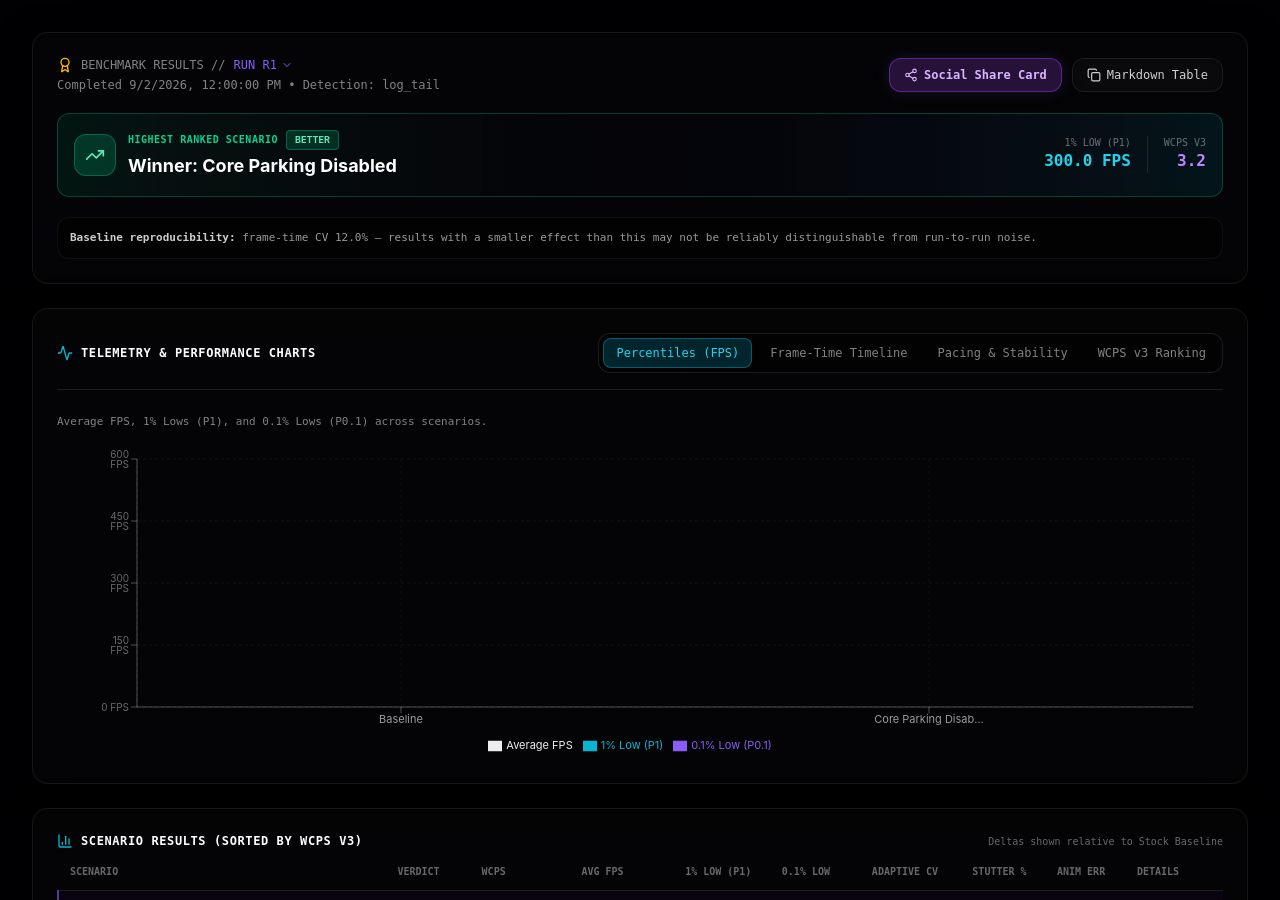
ResultsVisualizer › opens the run-switcher on click and lists every run in history
Expected: the text "Winner: Core Parking Disabled (3.2 WCPS)" is not shown
Click the button "RUN r1". click: (263, 65)
box: left=234, top=57, right=293, bottom=73
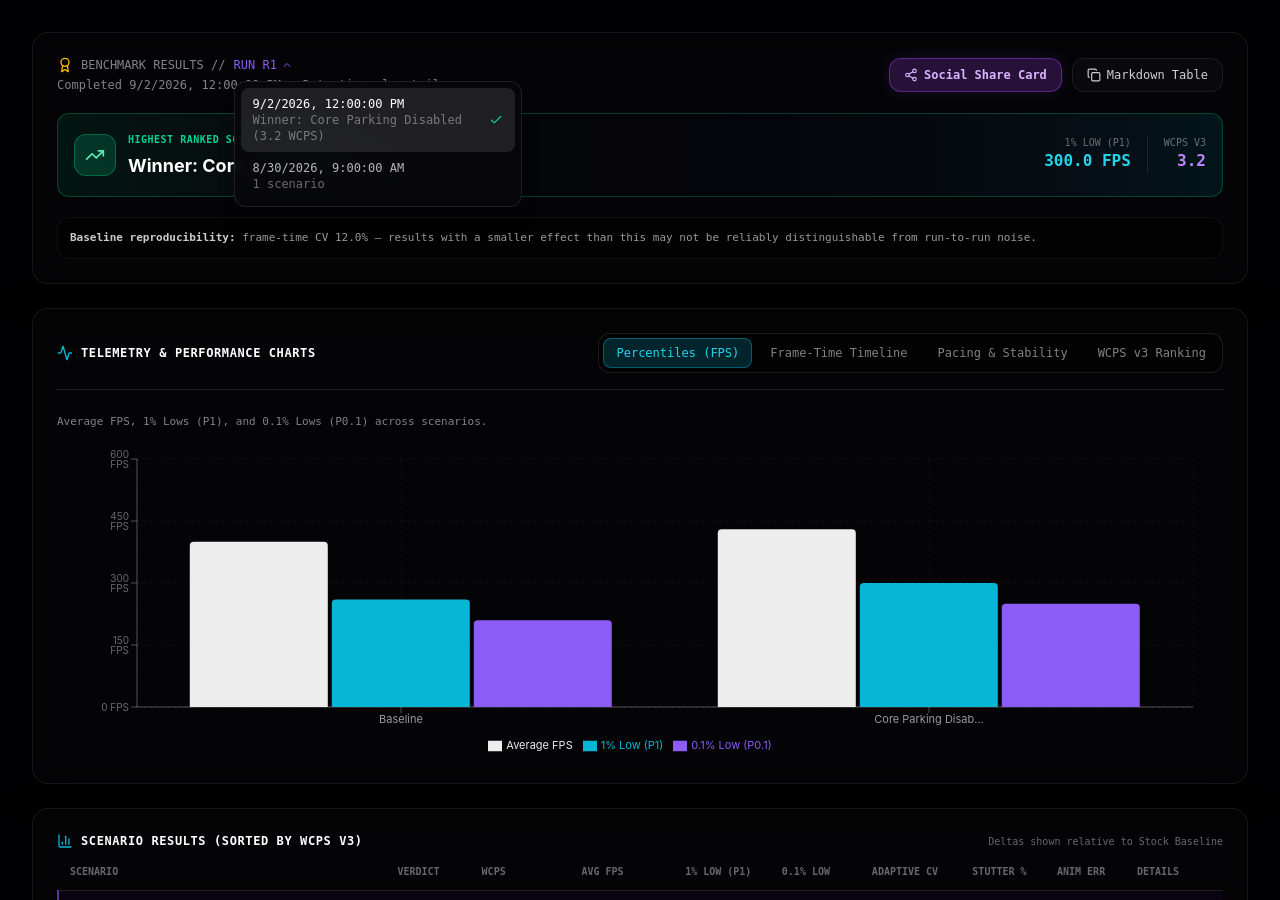
Now the text "Winner: Core Parking Disabled (3.2 WCPS)" is shown, box left=252, top=112, right=480, bottom=144
Now the text "1 scenario" is shown, box left=252, top=177, right=325, bottom=191
